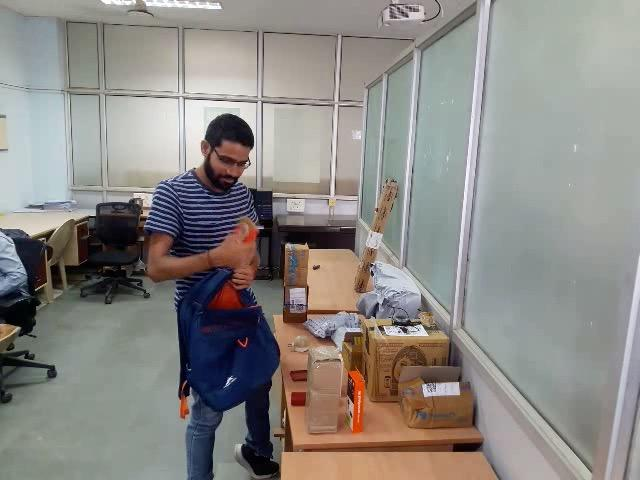shoplifting: (169, 206, 286, 421)
